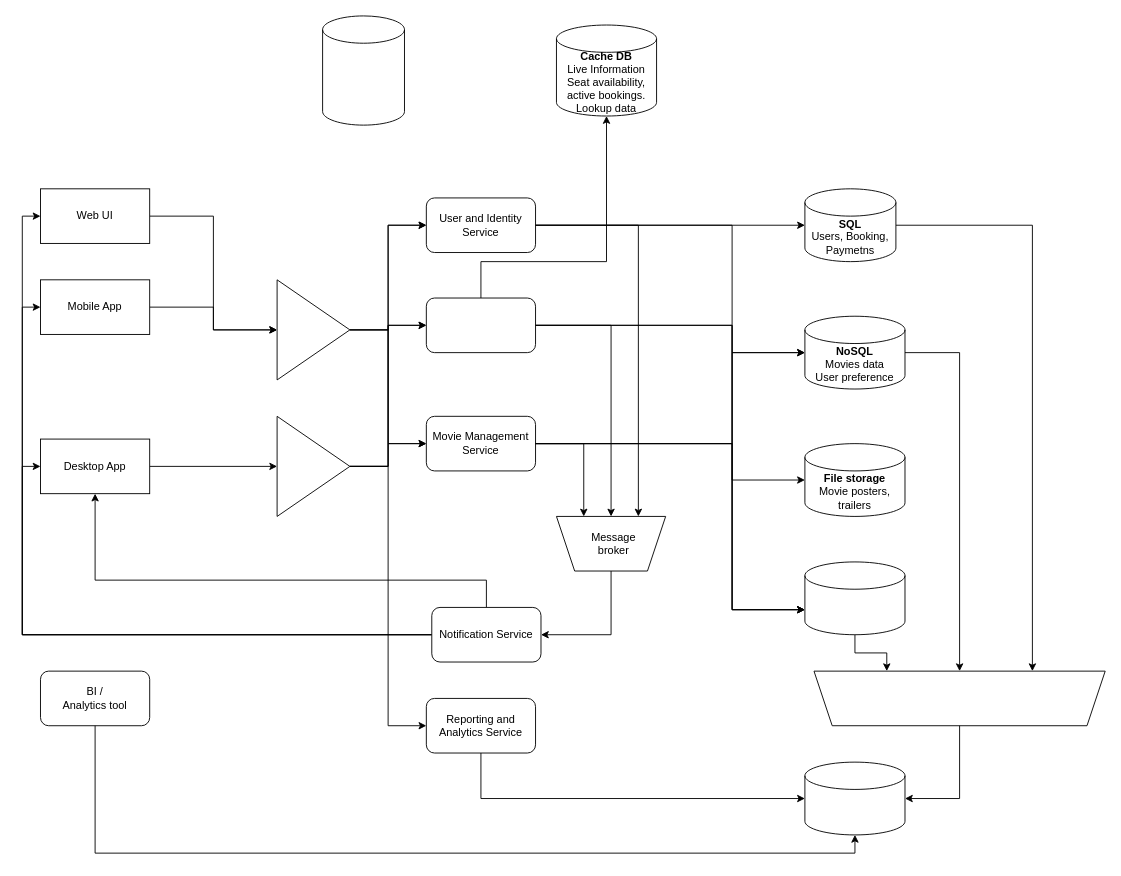
The diagram is 1121 pixels wide and 876 high, and some of its shapes have lost their labels. Each missing label, with the centre of its shape:
Booking and Payment Service: point 480,325
Data warehouse / Data lake: point 854,798
Event processor / Batch data processor: point 959,698
Event Store Logs, User activity, Trail data: point 854,598
External Gateway: point 313,329
Identity server: point 363,70
Internal Gateway: point 313,465
